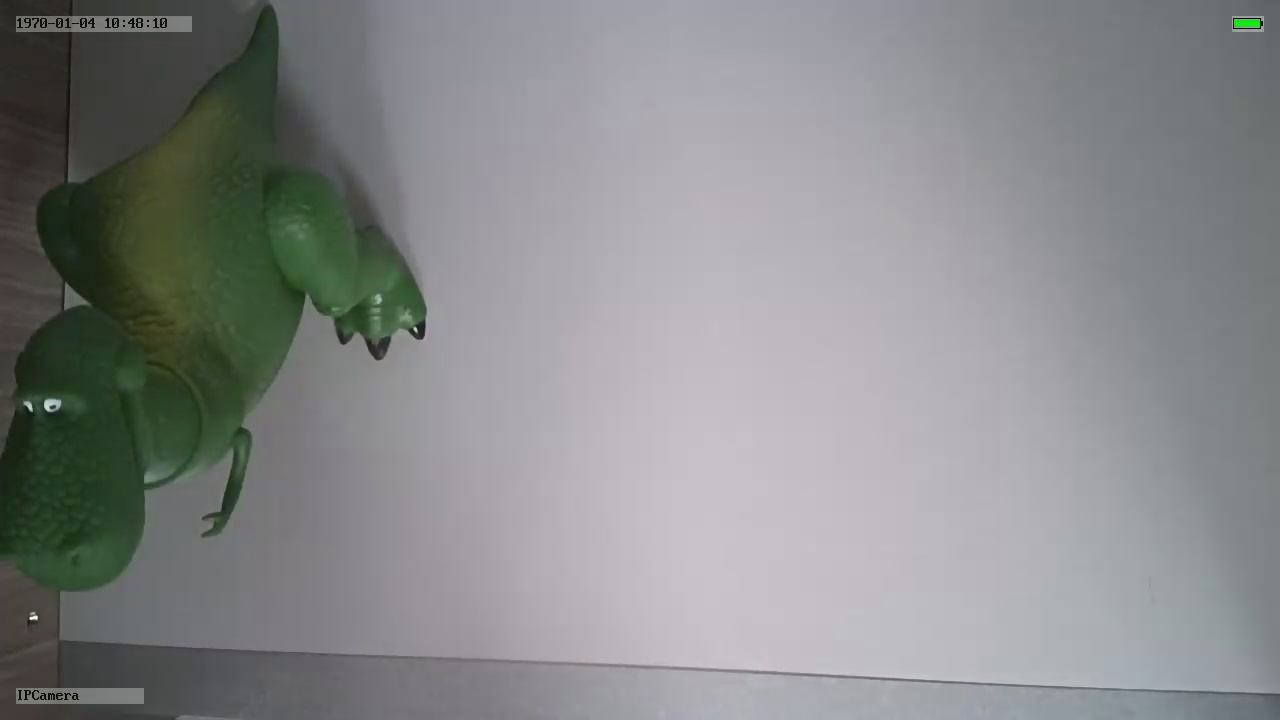rex: (1, 86, 427, 591)
